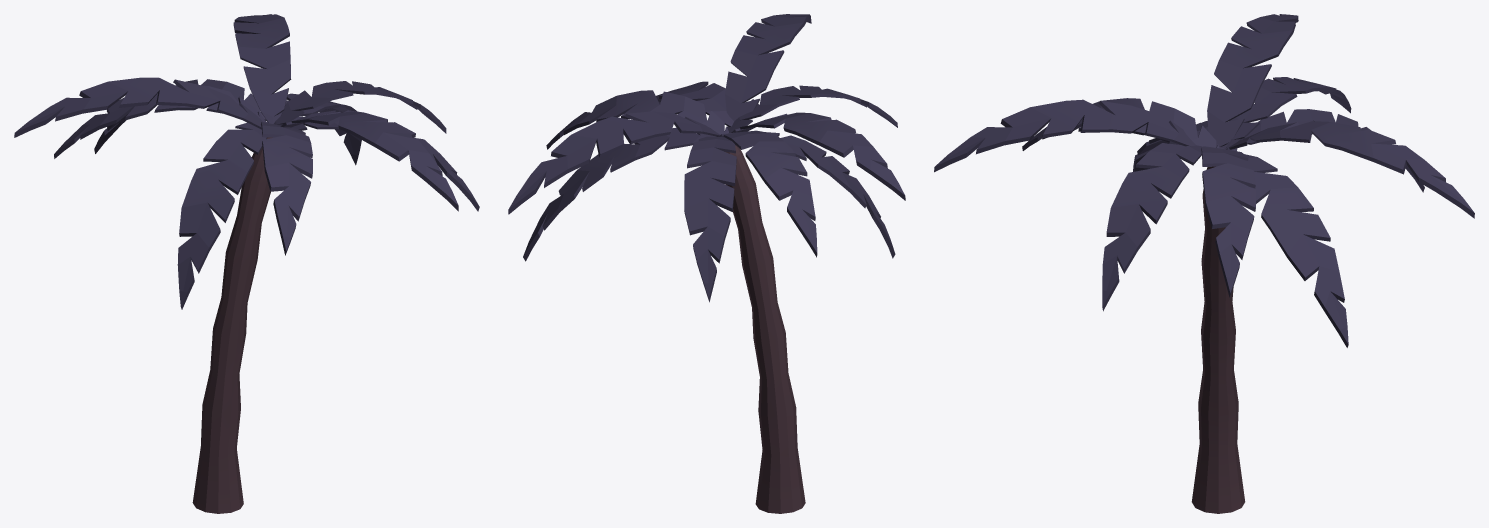
Rendered from tree_1.fbx.
3 views of the same model, side by side, from view 1: azimuth 30°, elevation 25°; view 2: azimuth 150°, elevation 25°; view 3: azimuth 270°, elevation 25° (orthographic). The views are drawn at different scales.
Parts seen in each view (by area): view 1: tree1, leaf16, leaf15, leaf8, leaf17, leaf14, leaf13, leaf6, leaf12, leaf7, leaf11; view 2: tree1, leaf7, leaf8, leaf14, leaf6, leaf15, leaf11, leaf13, leaf16, leaf17, leaf12; view 3: tree1, leaf11, leaf12, leaf14, leaf15, leaf13, leaf8, leaf6, leaf17, leaf7.
Part boxes in pixels (x1=…): tree1: x1=192, y1=137, x2=272, y2=513; leaf16: x1=177, y1=122, x2=266, y2=309; leaf15: x1=14, y1=77, x2=262, y2=137; leaf8: x1=233, y1=14, x2=291, y2=123; leaf17: x1=261, y1=122, x2=312, y2=255; leaf14: x1=280, y1=111, x2=458, y2=211; leaf13: x1=273, y1=81, x2=446, y2=133; leaf6: x1=54, y1=85, x2=266, y2=158; leaf12: x1=291, y1=110, x2=479, y2=211; leaf7: x1=94, y1=79, x2=266, y2=153; leaf11: x1=267, y1=93, x2=361, y2=165; tree1: x1=725, y1=145, x2=805, y2=513; leaf7: x1=684, y1=136, x2=736, y2=302; leaf8: x1=508, y1=111, x2=719, y2=214; leaf14: x1=725, y1=14, x2=811, y2=121; leaf6: x1=719, y1=130, x2=817, y2=257; leaf15: x1=731, y1=112, x2=905, y2=200; leaf11: x1=523, y1=127, x2=715, y2=261; leaf13: x1=546, y1=90, x2=728, y2=149; leaf16: x1=735, y1=132, x2=895, y2=258; leaf17: x1=727, y1=85, x2=897, y2=133; leaf12: x1=656, y1=81, x2=733, y2=126; tree1: x1=1191, y1=166, x2=1245, y2=513; leaf11: x1=1244, y1=154, x2=1348, y2=347; leaf12: x1=1102, y1=141, x2=1202, y2=311; leaf14: x1=934, y1=99, x2=1195, y2=172; leaf15: x1=1207, y1=14, x2=1298, y2=148; leaf13: x1=1201, y1=146, x2=1255, y2=297; leaf8: x1=1226, y1=121, x2=1474, y2=218; leaf6: x1=1226, y1=77, x2=1351, y2=149; leaf17: x1=1022, y1=98, x2=1219, y2=150; leaf7: x1=1230, y1=109, x2=1424, y2=192.
Size of the model in its own units: 475 by 471 by 532.
